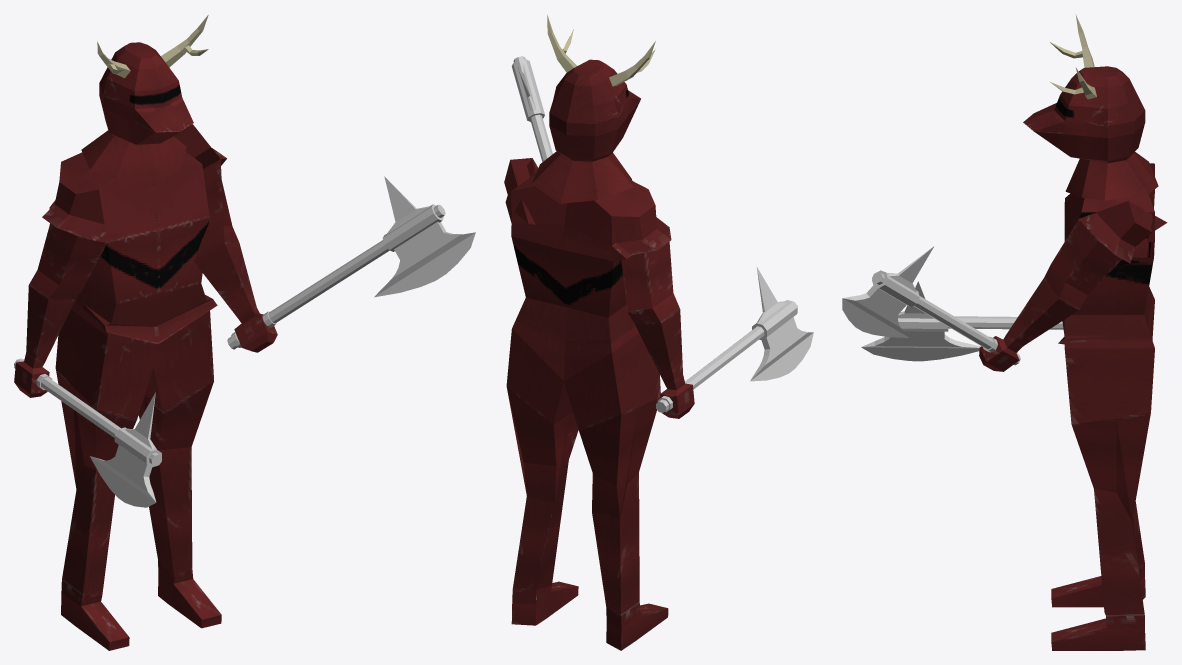
File: red_knight_F3.fbx
3 renders of one model, left to right at view 1: azimuth 30°, elevation 25°; view 2: azimuth 150°, elevation 25°; view 3: azimuth 270°, elevation 25°, orthographic. The views are drawn at different scales.
Parts seen in each view (by area): view 1: body.002, body.003; view 2: body.002, body.003; view 3: body.002, body.003.
Part boxes in pixels (<box>): body.002: <box>14,15,221,650</box>; body.003: <box>173,124,475,352</box>; body.002: <box>506,15,813,650</box>; body.003: <box>504,56,552,224</box>; body.002: <box>861,14,1158,650</box>; body.003: <box>842,201,1167,371</box>.
Size of the model in its own units: 113 by 205 by 103.
